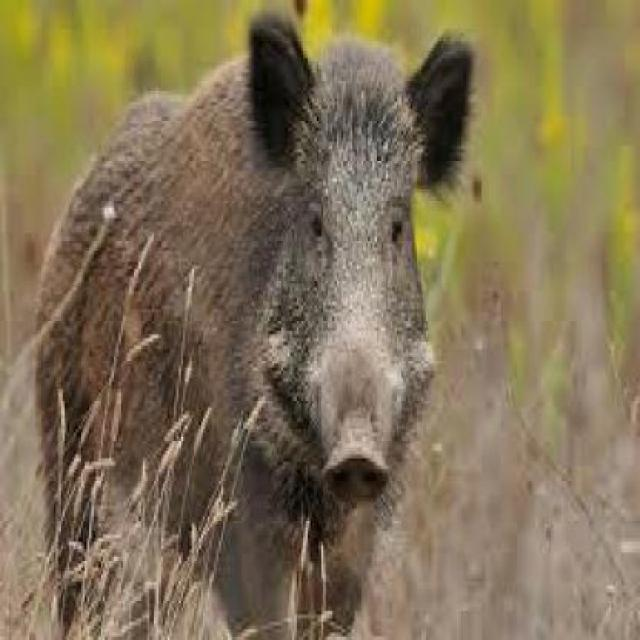Wild Boar: (31, 6, 482, 640)
